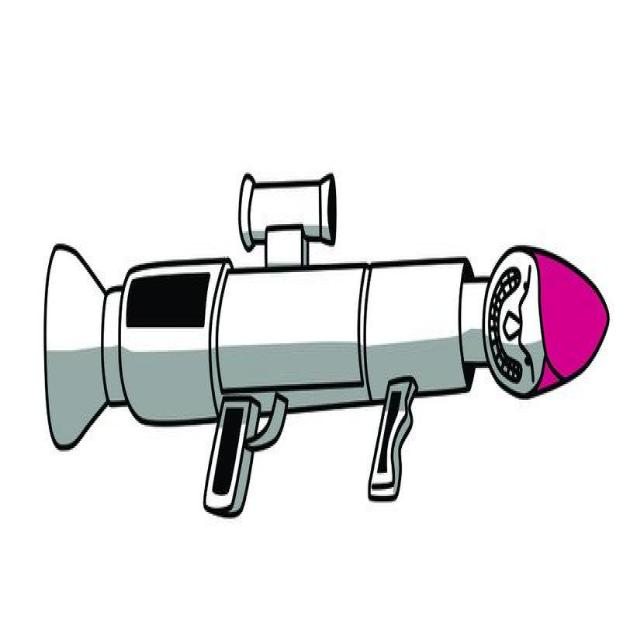weapon: (41, 165, 611, 518)
